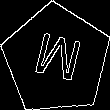M_S: (28, 29, 84, 90)
